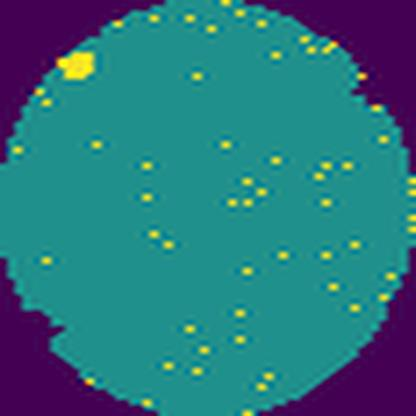Loc: (59, 48, 97, 82)
